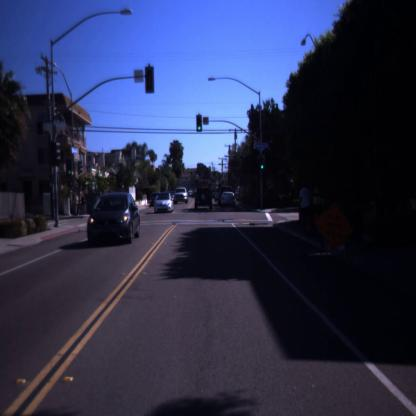trafficlight: (197, 114, 202, 132)
